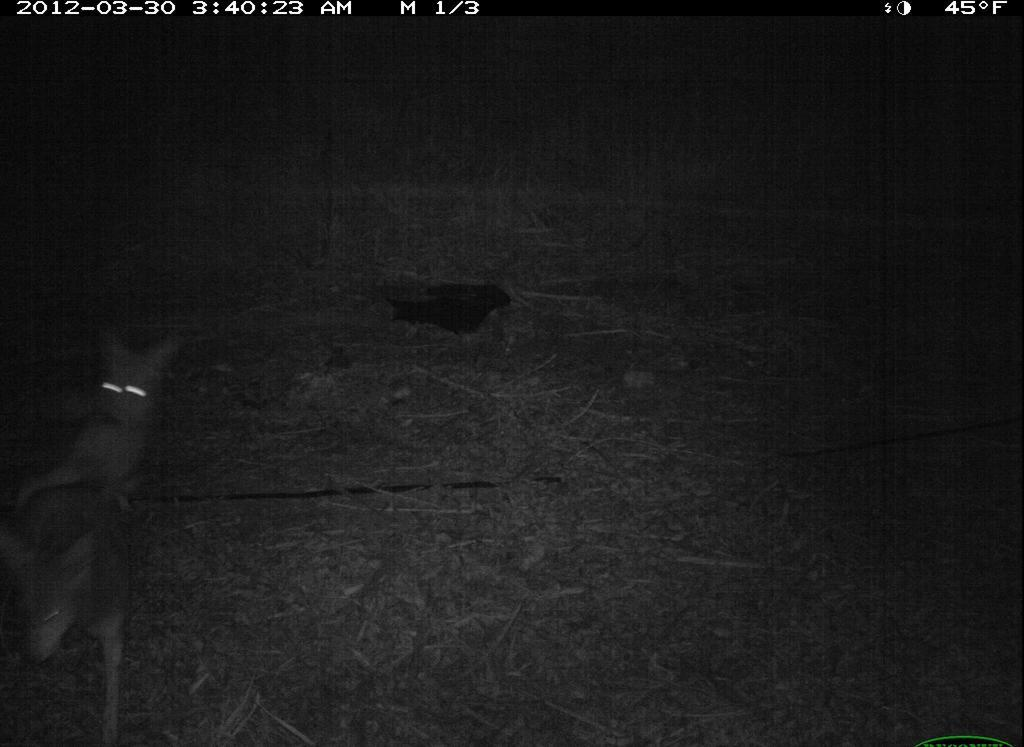coyote: (2, 472, 186, 731), (11, 318, 200, 523)
